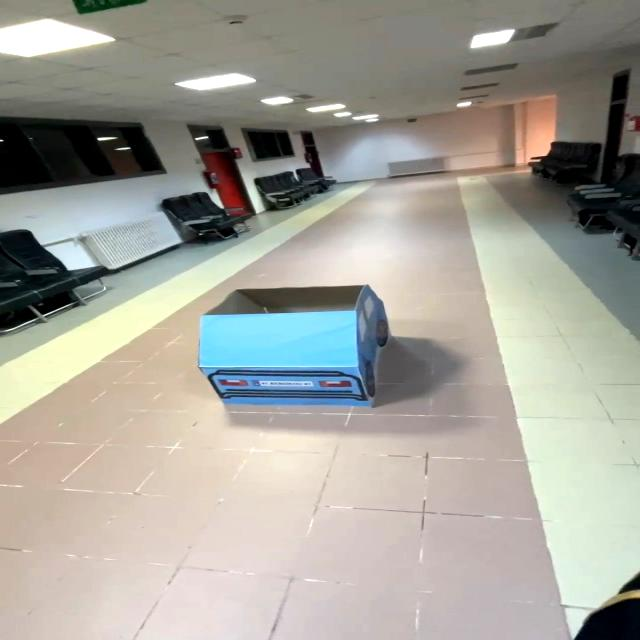blue_car: (192, 269, 398, 426)
